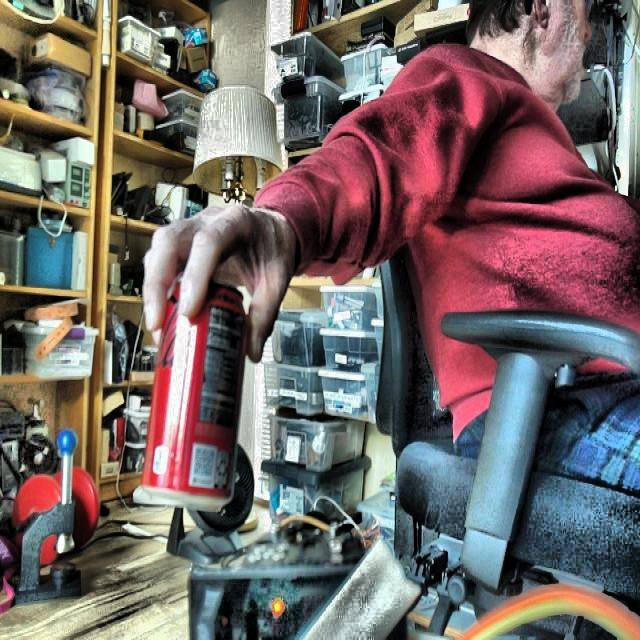CokeZero-can: (140, 272, 247, 512)
